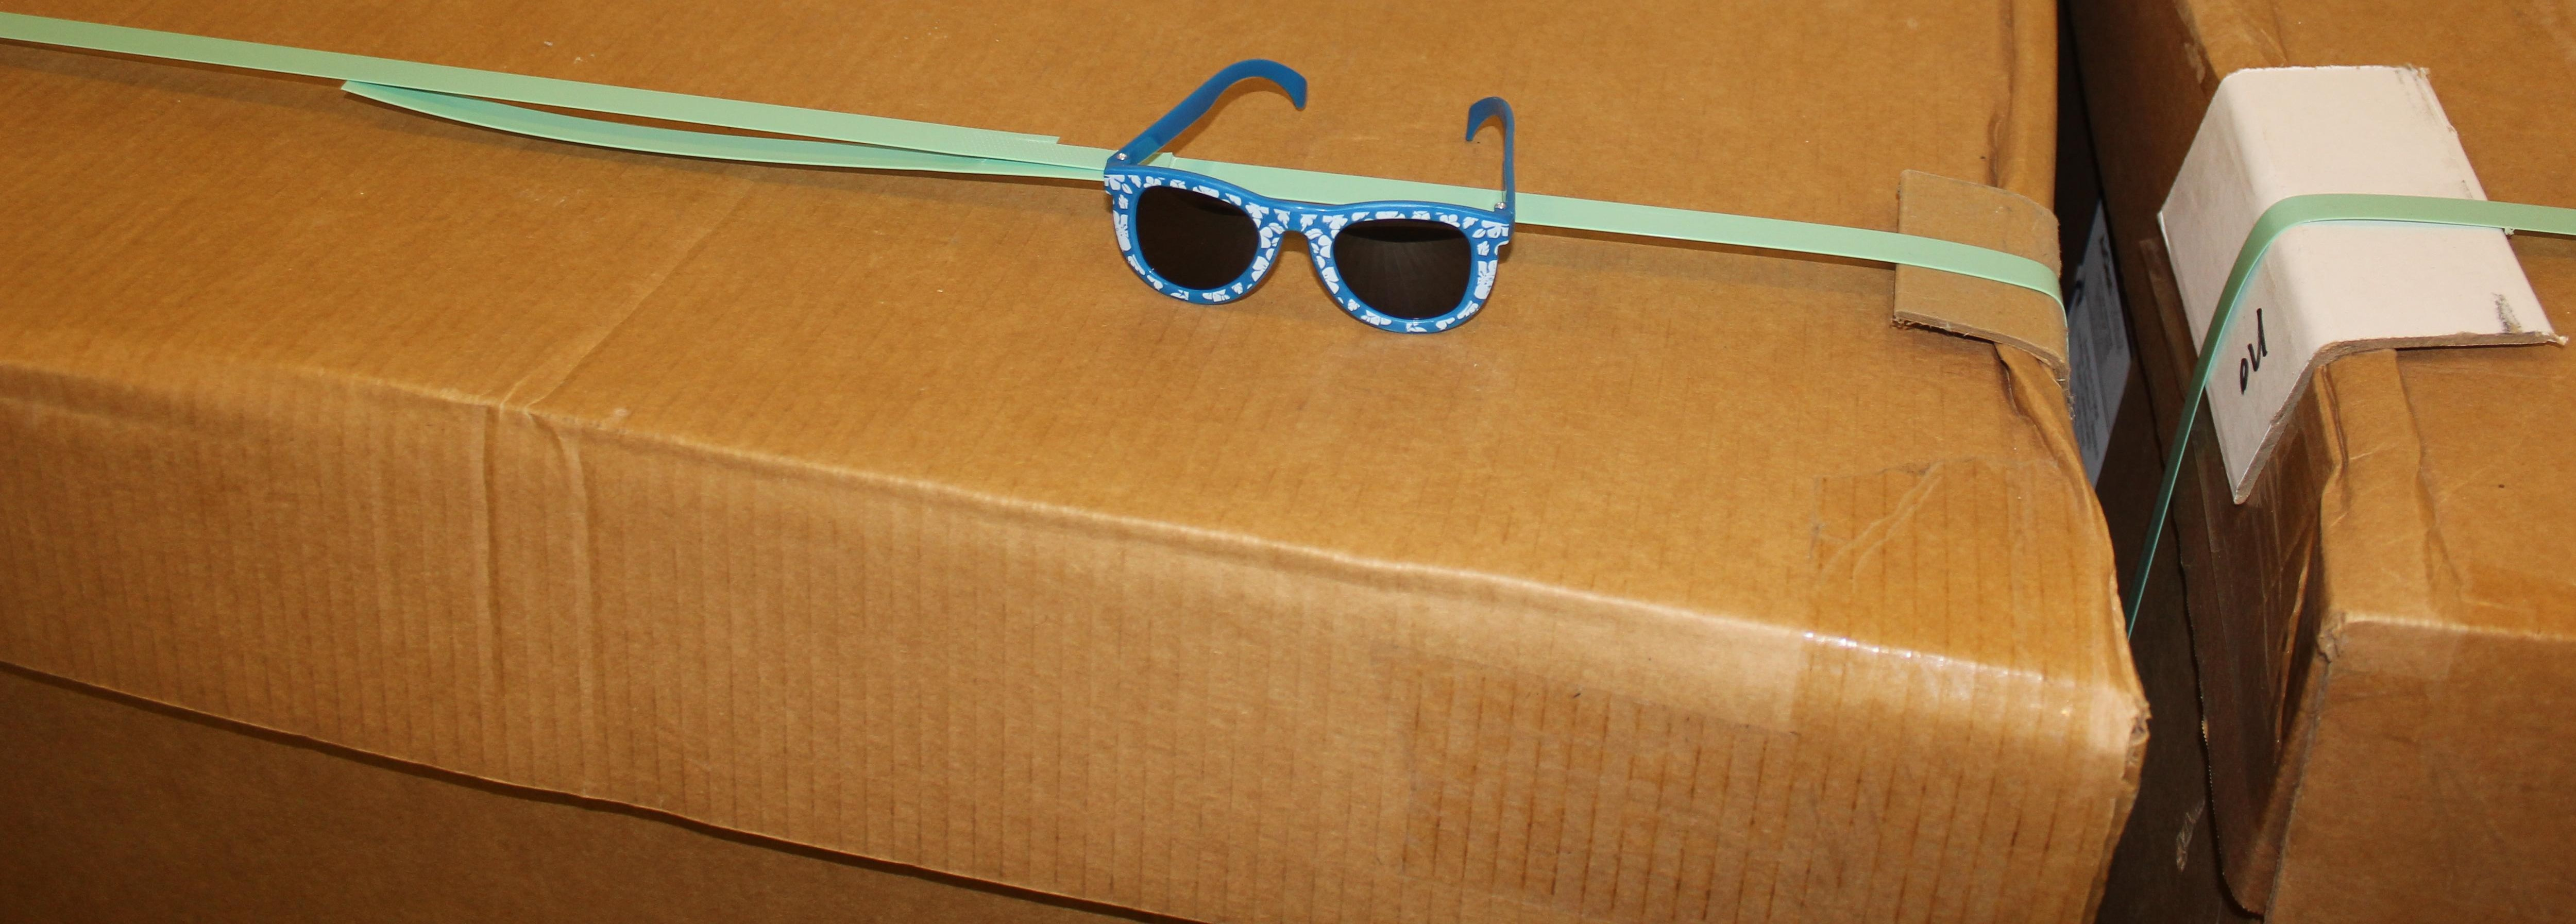blueSunglasses: (1079, 48, 1543, 350)
